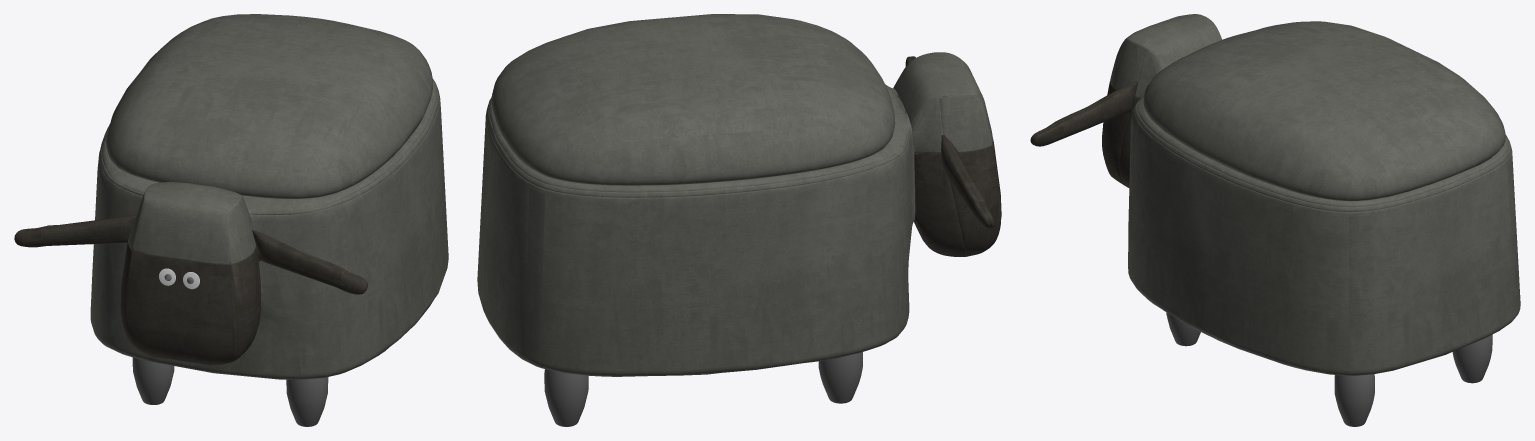
File: PELUCHE-3.glb
3 renders of one model, left to right at view 1: azimuth 30°, elevation 25°; view 2: azimuth 150°, elevation 25°; view 3: azimuth 270°, elevation 25°, orthographic. The views are drawn at different scales.
Parts seen in each view (by area): view 1: SketchUp, SketchUp.001, SketchUp.002, SketchUp.008; view 2: SketchUp, SketchUp.001, SketchUp.002; view 3: SketchUp, SketchUp.001, SketchUp.002.
Part boxes in pixels (x1,y1,x2,y2): SketchUp: (90, 14, 448, 379); SketchUp.001: (14, 214, 367, 365); SketchUp.002: (132, 357, 328, 426); SketchUp.008: (159, 268, 199, 289); SketchUp: (477, 14, 992, 376); SketchUp.001: (905, 56, 1001, 256); SketchUp.002: (544, 352, 862, 426); SketchUp: (1110, 14, 1520, 375); SketchUp.001: (1030, 80, 1140, 187); SketchUp.002: (1166, 312, 1492, 426).
Size of the model in its own units: 0.5942 by 0.3829 by 0.5821.
5 materials, 2 textured.
